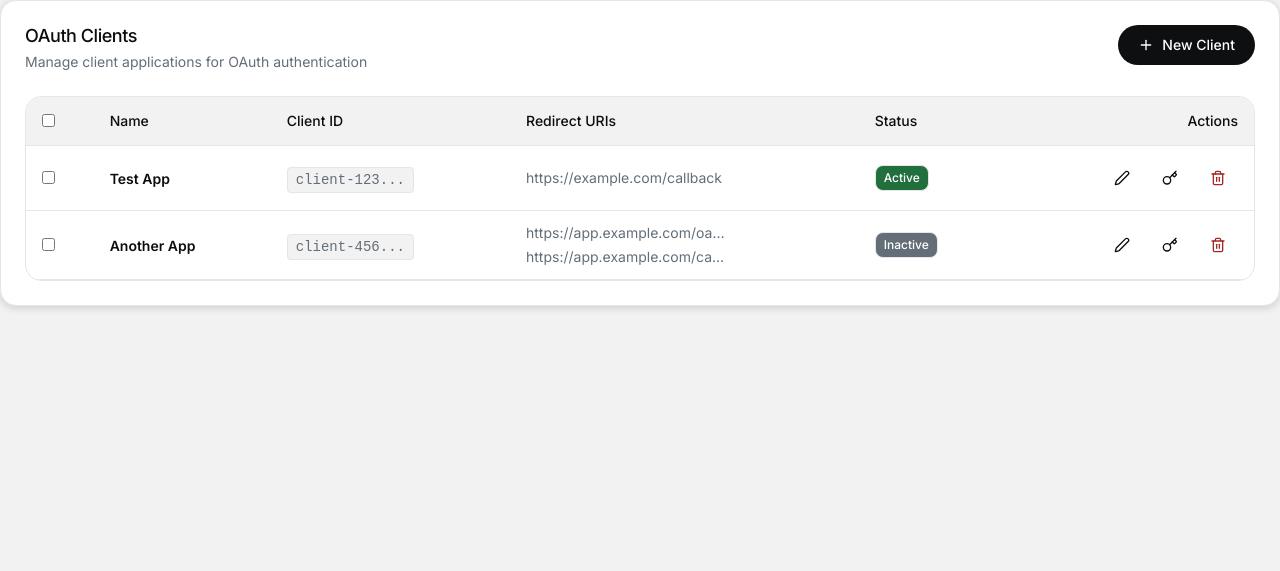
Test: ClientManagement › Create Client › should show create form when clicking New Client button
expect the text "Test App" is shown: met, box [110,170,170,186]
Step 1. Click the button "New Client" → click(1187, 45), box [1118,25,1255,65]
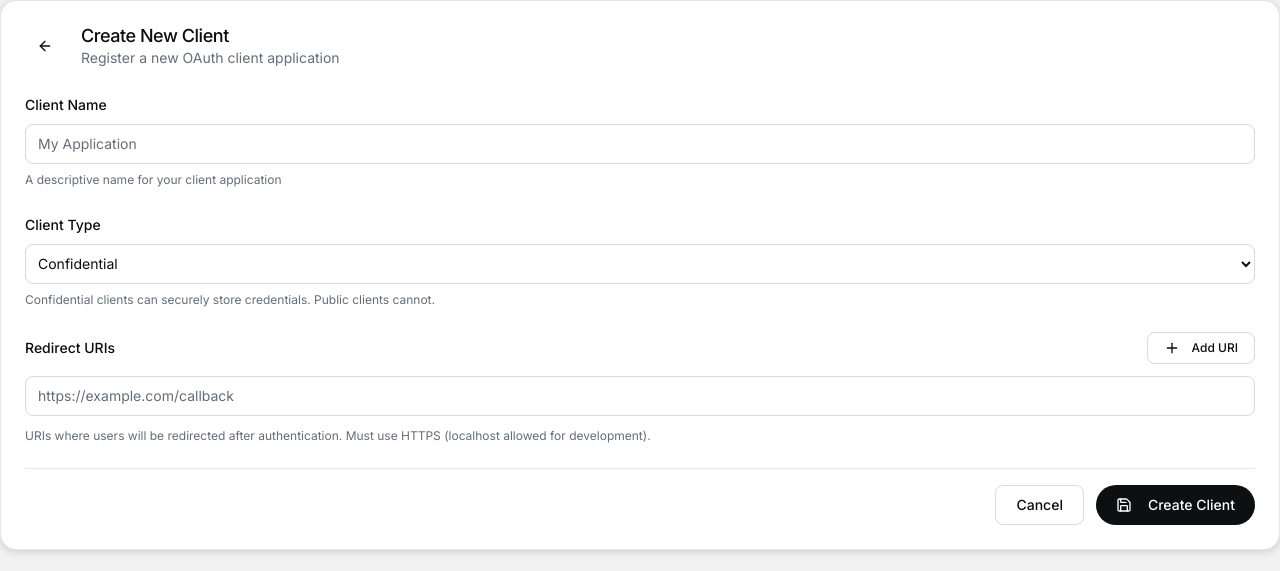
expect the text "Create New Client" is shown: met, box [81,25,229,46]
expect the field labelled "Client Name" is shown: met, box [25,124,1255,164]
